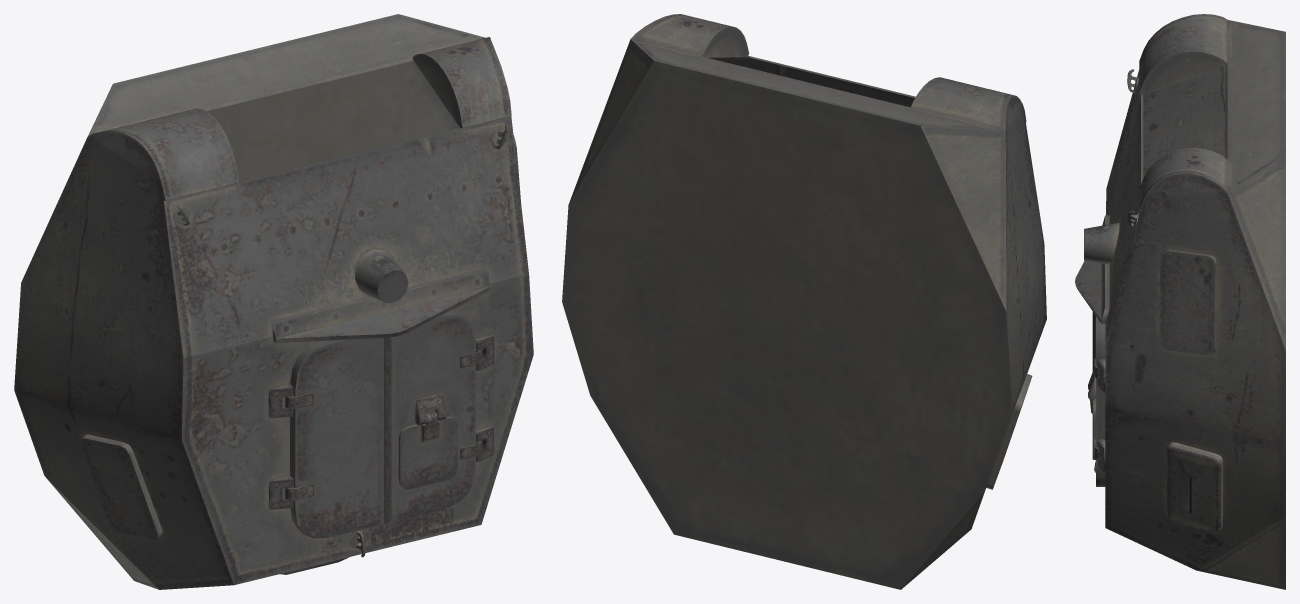
Rendered from Turret_01.glb.
3 views of the same model, side by side, from view 1: azimuth 30°, elevation 25°; view 2: azimuth 150°, elevation 25°; view 3: azimuth 270°, elevation 25° (orthographic). The views are drawn at different scales.
Parts seen in each view (by area): view 1: set_0_group_0; view 2: set_0_group_0; view 3: set_0_group_0.
Part boxes in pixels (x1,y1,x2,y2): set_0_group_0: (14,14,533,589); set_0_group_0: (562,14,1046,589); set_0_group_0: (1075,14,1285,589).
Bounding box in the file's own units: 1.41 × 1.4 × 0.6023.
1 material, 1 textured.
